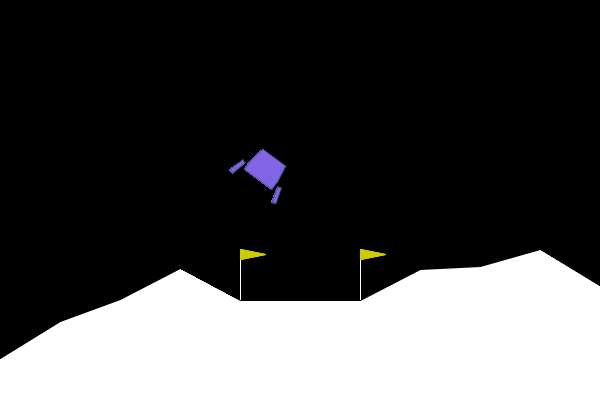lander: (227, 138, 299, 206)
